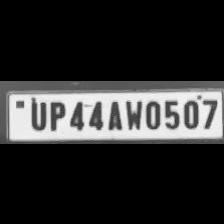0: (142, 96, 162, 130), (180, 96, 200, 128)
4: (66, 97, 86, 130), (84, 97, 104, 129)
5: (160, 95, 180, 129)
7: (198, 95, 218, 129)
A: (104, 97, 122, 130)
P: (45, 97, 65, 130)
U: (26, 97, 48, 129)
W: (122, 96, 142, 130)
